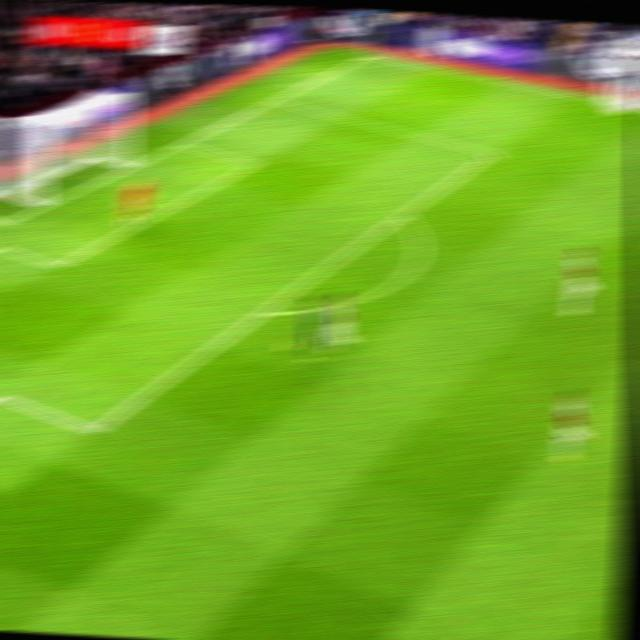bigarea_bottom_inner: (80, 420, 107, 441)
bigarea_top_inner: (478, 146, 502, 161)
bigarea_top_outter: (264, 92, 286, 108)
bottom_arc_area_intersection: (253, 304, 273, 322)
corner: (355, 47, 385, 61)
smallarea_bottom_inner: (47, 258, 69, 274)
smallarea_top_inner: (241, 156, 262, 173)
smallarea_top_outter: (170, 133, 192, 152)
top_arc_area_intersection: (393, 209, 412, 222)
